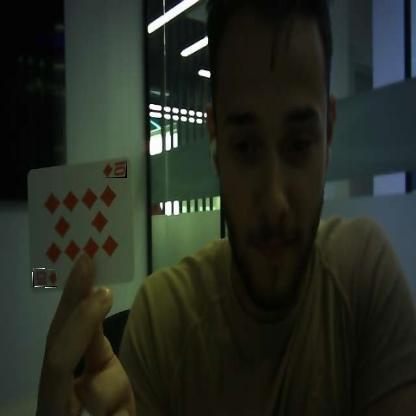10D: (103, 160, 127, 178), (33, 269, 57, 287)
